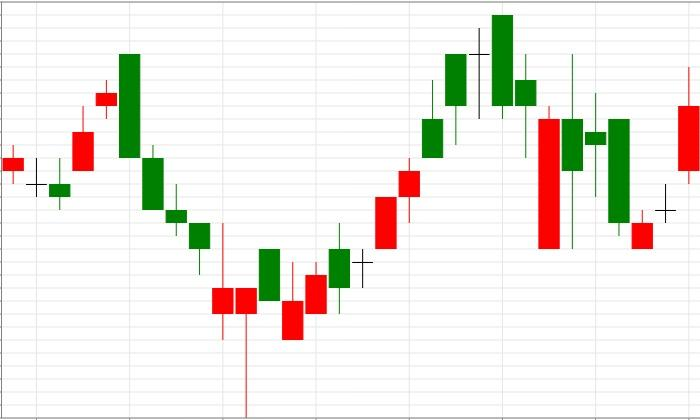bearish_engulfing_fall: (49, 54, 141, 211)
hammer_rise: (118, 54, 258, 418)
